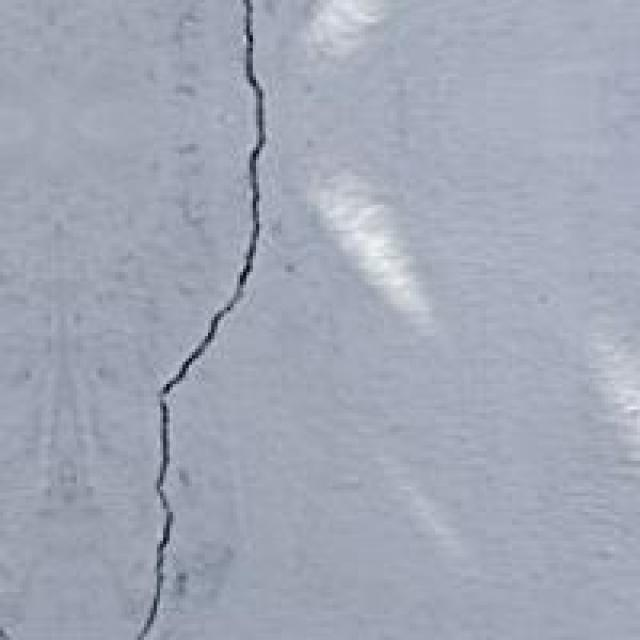crack: (102, 0, 394, 637)
